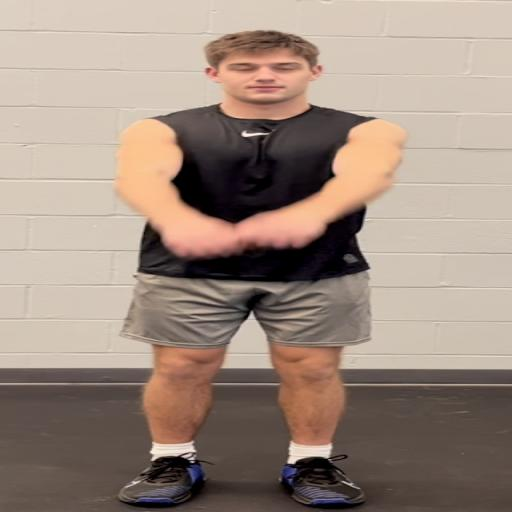Normal_DumbbellBicepCurls: (9, 21, 497, 512)
